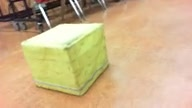cube: (20, 23, 109, 96)
